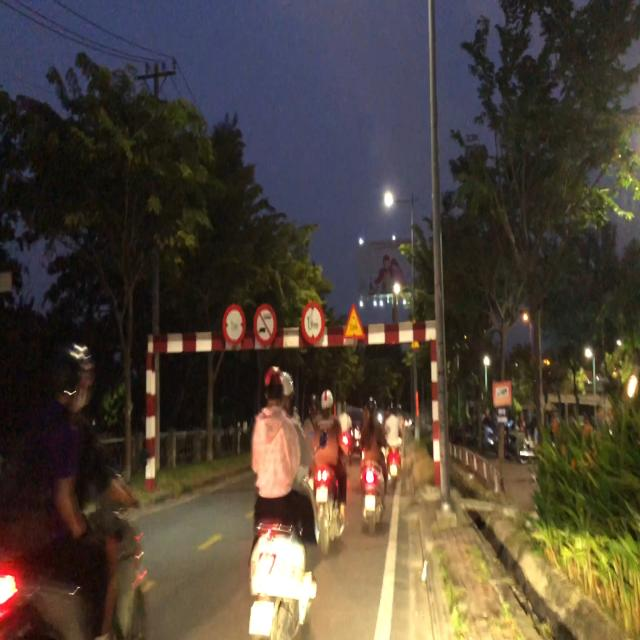Bien bao cam xe oto khach va xe oto tai: (252, 298, 282, 350)
Bien bao chieu cao tinh khong thuc te: (342, 298, 368, 348)
Bien bao han che chieu cao: (298, 296, 330, 348)
